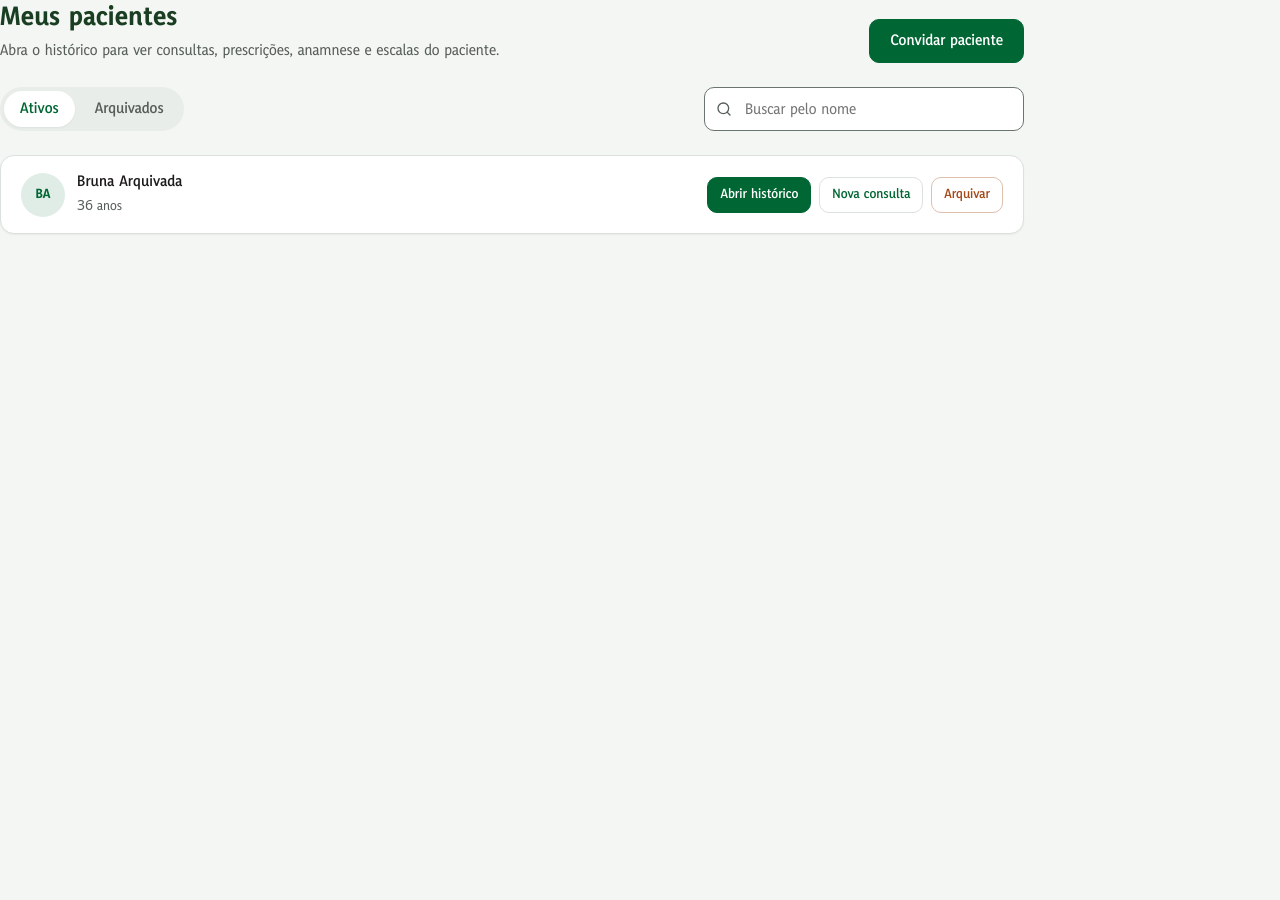
Test: ListaPacientes › arquivar avisa q os pedidos sao recusados e quantas consultas marcadas ficaram
The image size is (1280, 900).
What coordinates should you click on to do the following:
click the button "Arquivar"
I would click on:
 (967, 194)
Its box is [931, 176, 1003, 212].
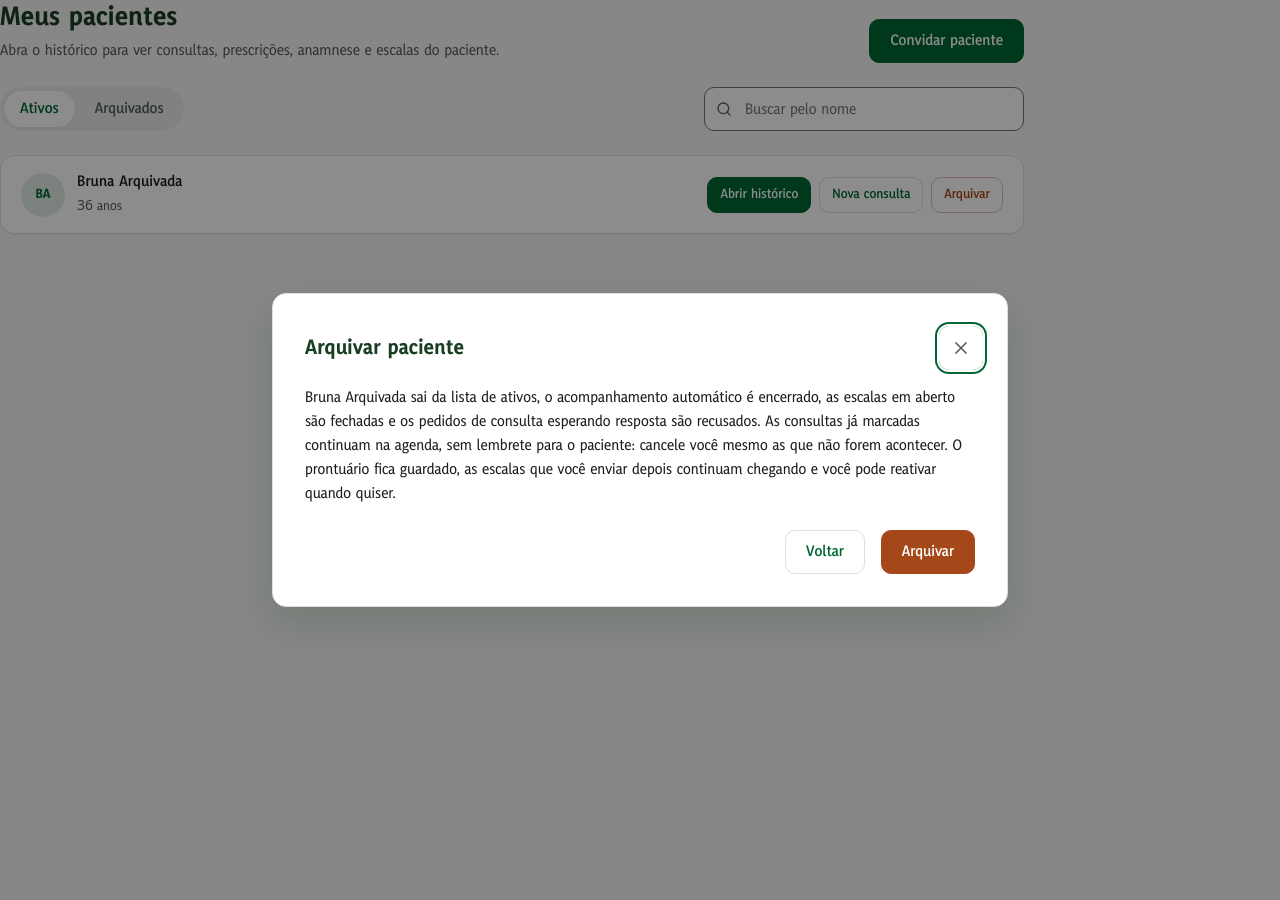
Expected: the dialog shows "pedidos de consulta esperando resposta são recusados", [305, 387, 962, 504]
Expected: the dialog shows "consultas já marcadas continuam na agenda", [305, 387, 962, 504]
What coordinates should you click on to do the following:
click the button "Arquivar"
I would click on:
 (928, 552)
Its box is [881, 530, 975, 574].
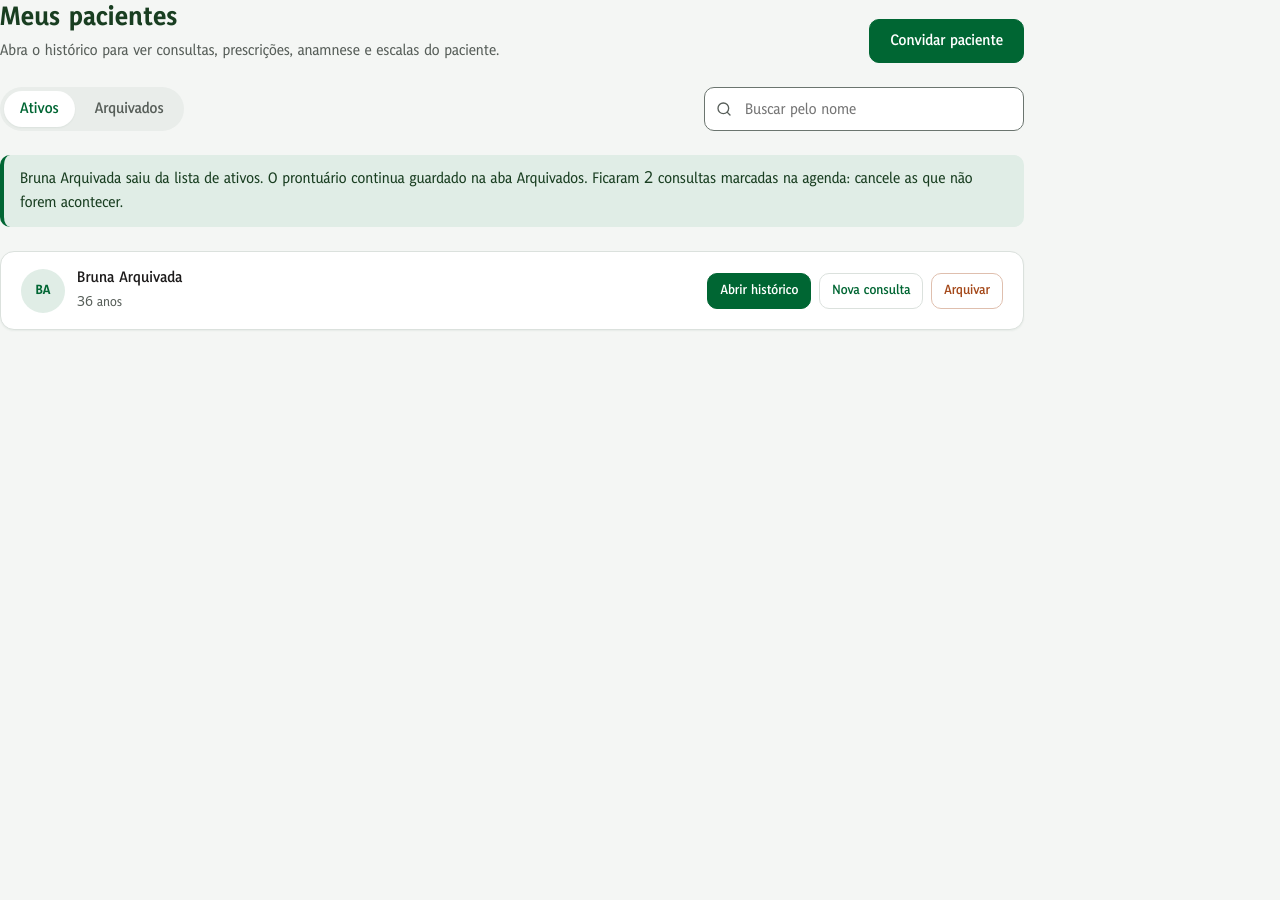
Expected: the text "Bruna Arquivada saiu da lista de ativos" shows "Ficaram 2 consultas marcadas na agenda", [20, 168, 972, 213]
